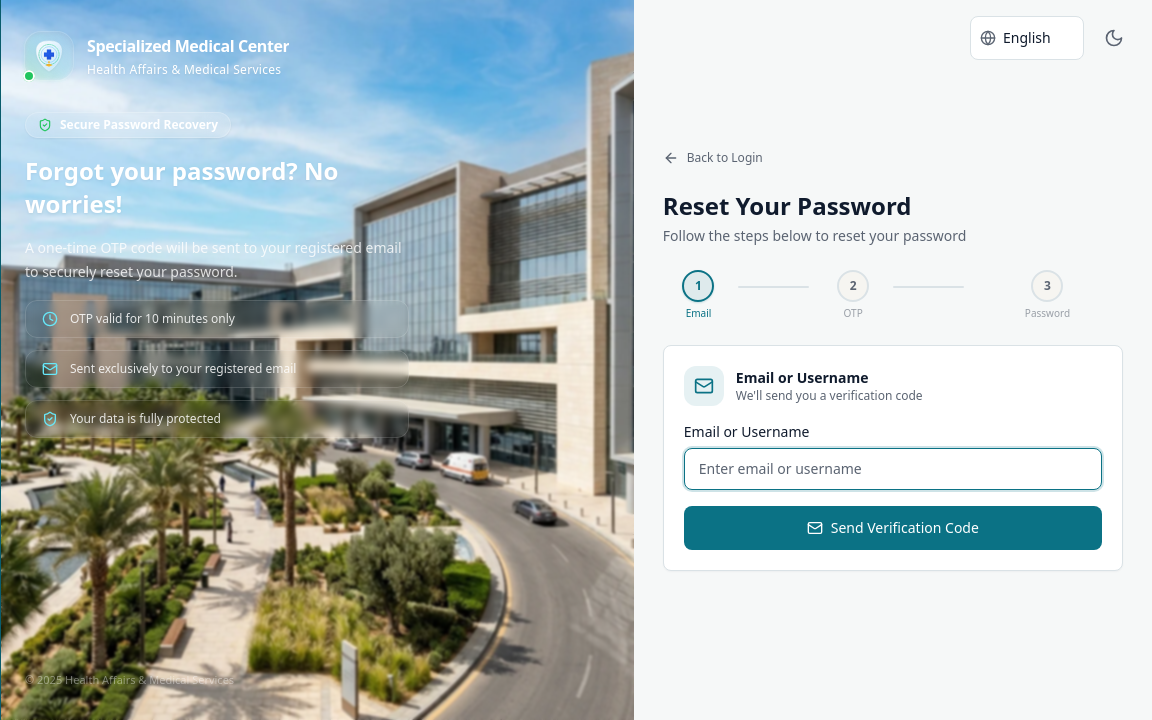
it: ForgotPasswordPage recovery flow › reports an unknown account without advancing the recovery flow
This screenshot has width=1152, height=720.
Step 1. Type "missing@example.com" into the field labelled "Email or Username" → (893, 468), box [684,448,1102,490]
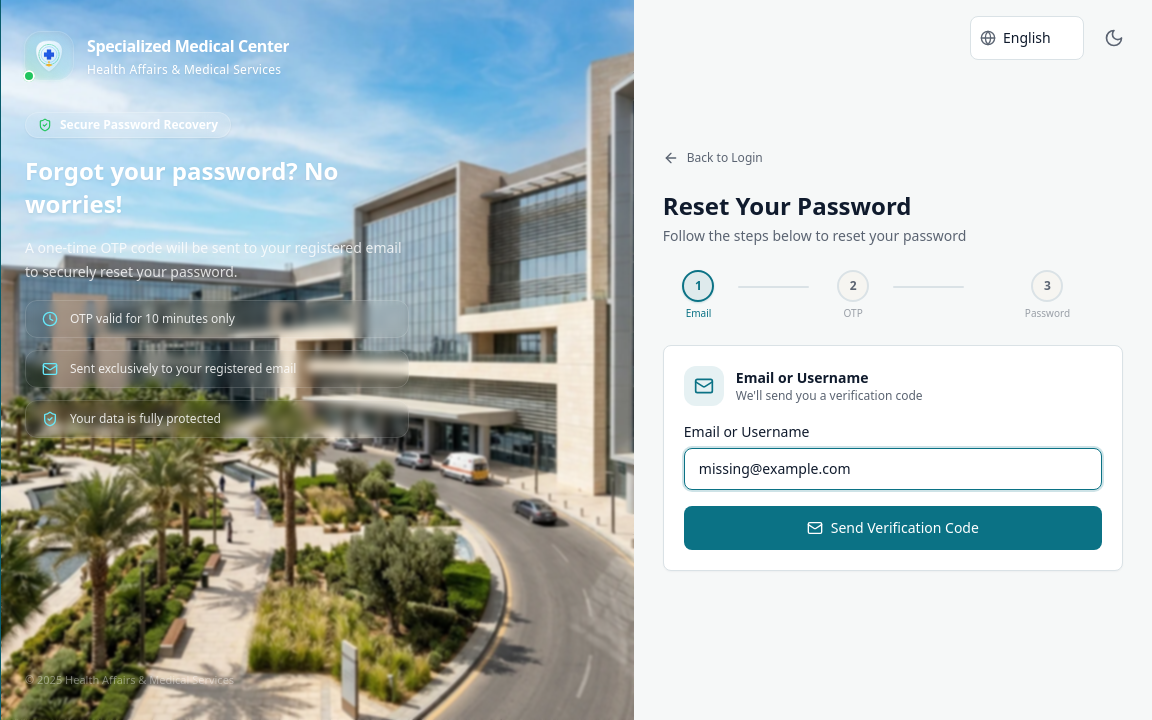
Step 2. Click the button "Send Verification Code" → click(893, 528), box [684,506,1102,550]
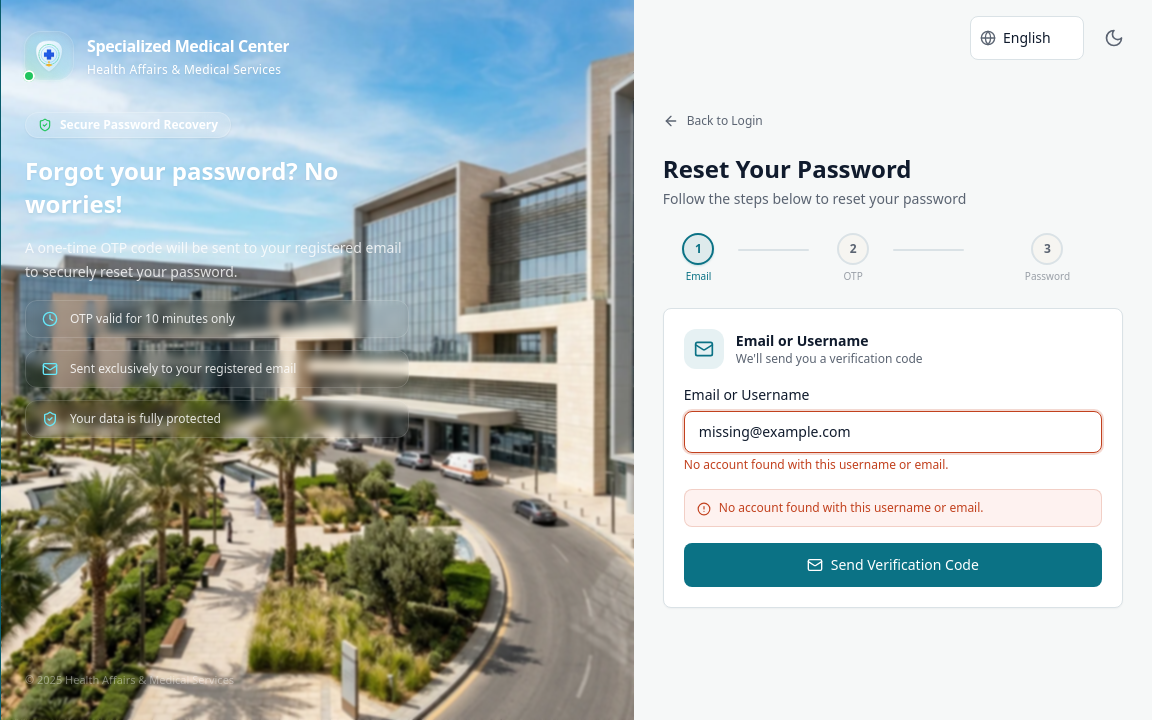
Expected: the message reads "No account found with this username or email.", [684,456,948,472]
